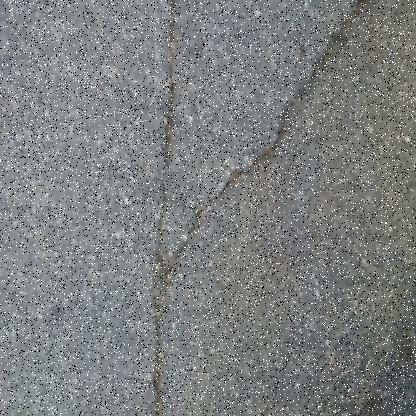Cracks: (160, 0, 388, 294), (146, 0, 185, 416)
